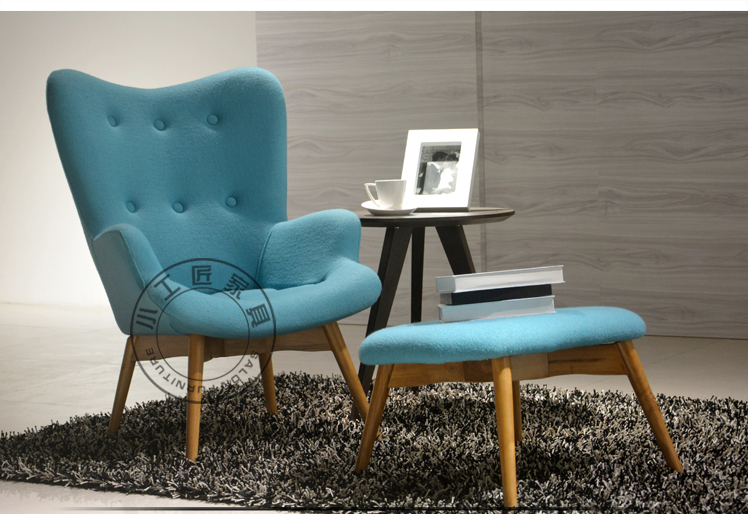chairs: (40, 62, 382, 464), (355, 307, 685, 507)
